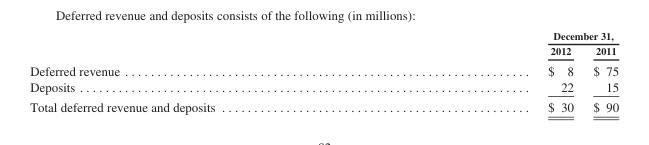table: (29, 29, 618, 114)
table column: (29, 29, 380, 114), (380, 29, 582, 114), (582, 29, 618, 114)
table column header: (29, 29, 618, 60)
table row: (29, 60, 618, 78), (29, 78, 618, 96), (29, 96, 618, 114), (29, 43, 618, 60), (29, 29, 618, 43)
table spanning cell: (380, 29, 618, 43)
